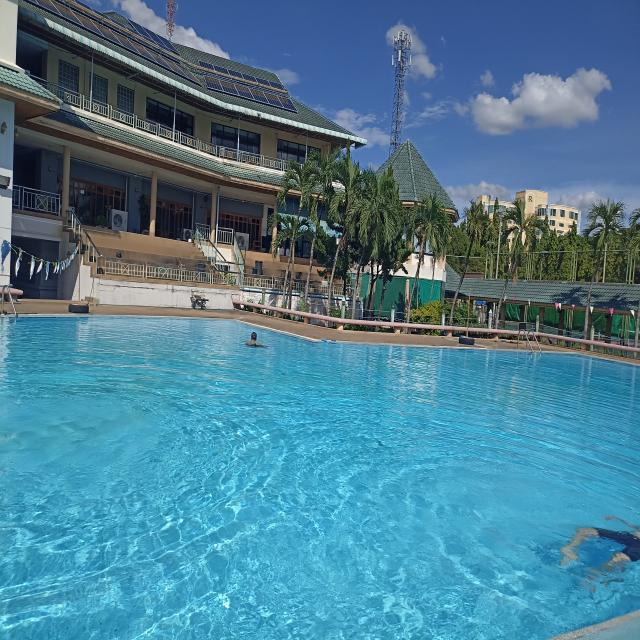Swimming: (542, 499, 640, 600), (242, 322, 262, 352)
